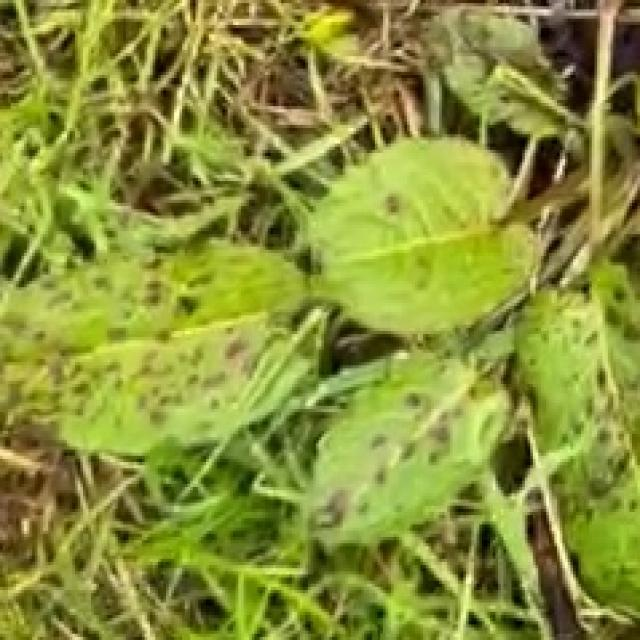organic waste: (46, 112, 640, 526)
